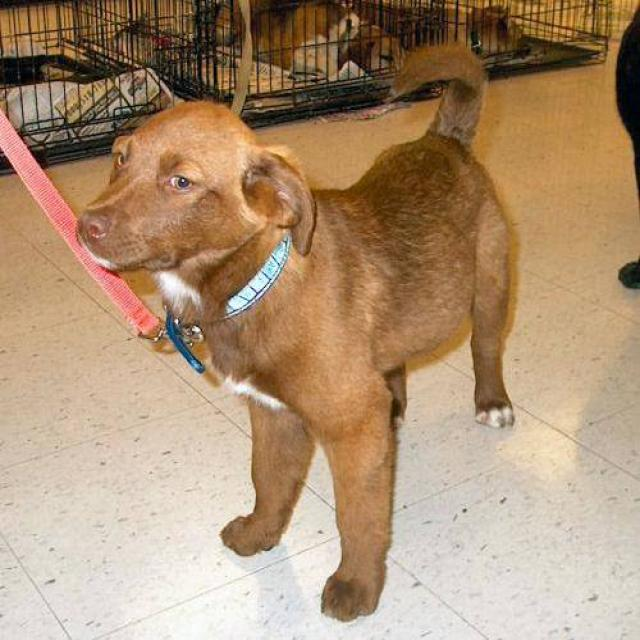Dog: (80, 101, 314, 280)
